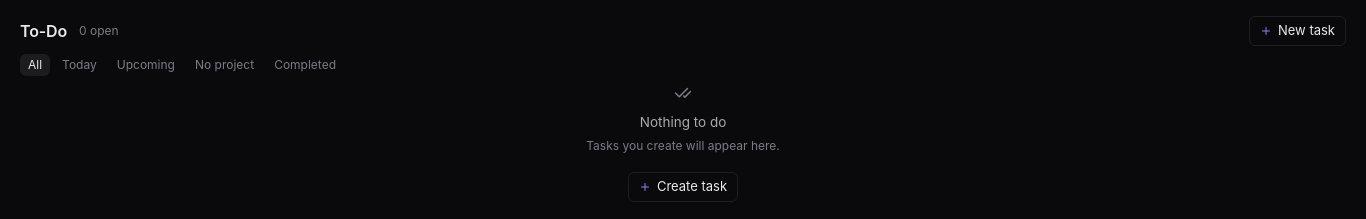
Test case: TodoView empty state › offers exactly one way out, and it composes a task
This screenshot has width=1366, height=219.
Click the button "Create task": (683, 187) [628,172,738,202]
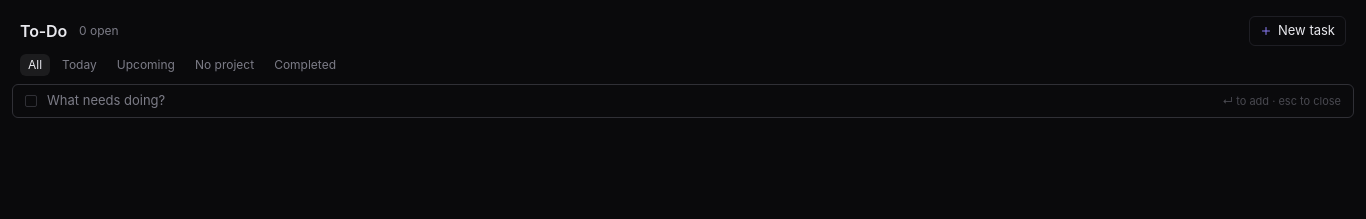
Expected: the field named "New task title" is shown, [47,91,1212,110]
Expected: the text "Nothing to do" is gone
